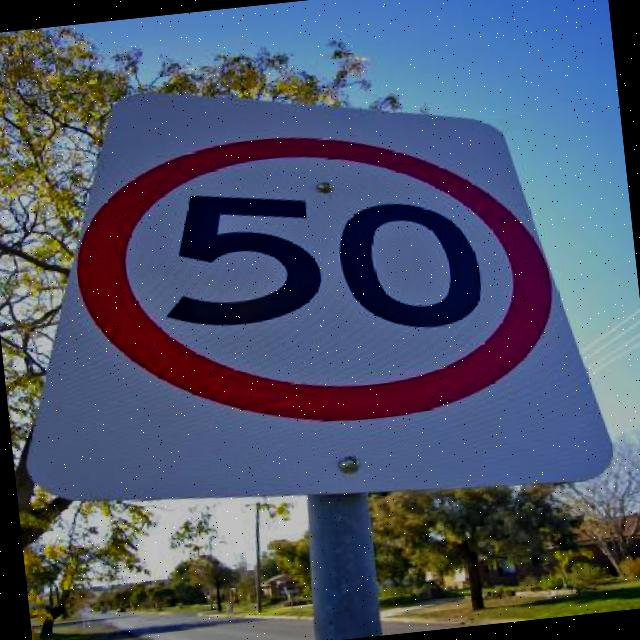Ograniczenie predkosci do 50: (110, 128, 547, 428)
